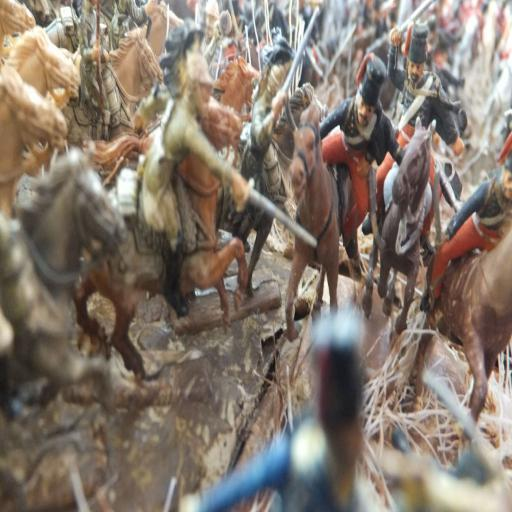horse: (0, 0, 512, 457), (70, 95, 248, 382), (82, 54, 264, 306), (0, 148, 129, 418), (396, 218, 512, 456), (286, 98, 356, 344), (362, 116, 437, 344), (56, 26, 163, 146), (0, 59, 70, 222), (82, 0, 186, 64), (2, 26, 82, 100)
